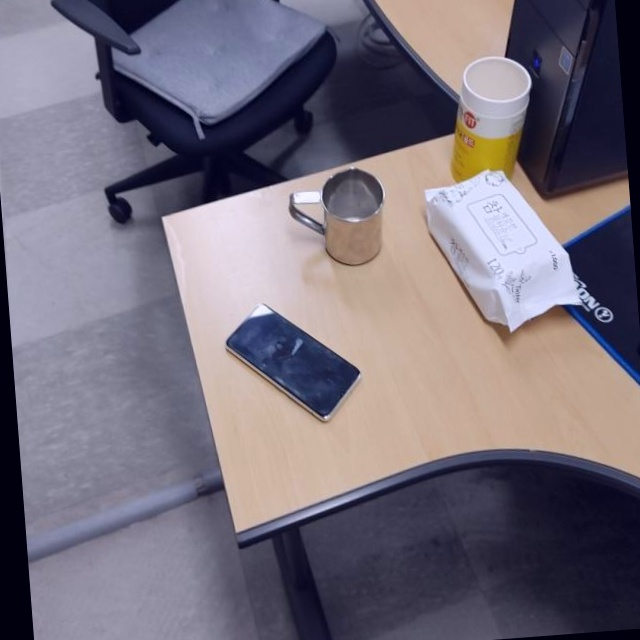cup: (286, 160, 392, 273)
phone: (220, 294, 368, 433)
